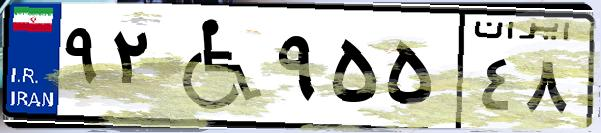2: (110, 28, 158, 98)
4: (475, 38, 525, 113)
5: (385, 28, 445, 110), (330, 28, 385, 110)
8: (525, 38, 570, 115)
9: (270, 28, 330, 110), (57, 26, 110, 100)
ژ (معلولین و جانبازان): (158, 12, 270, 120)
